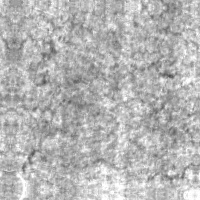crazing: (15, 87, 192, 180), (17, 6, 198, 92)
